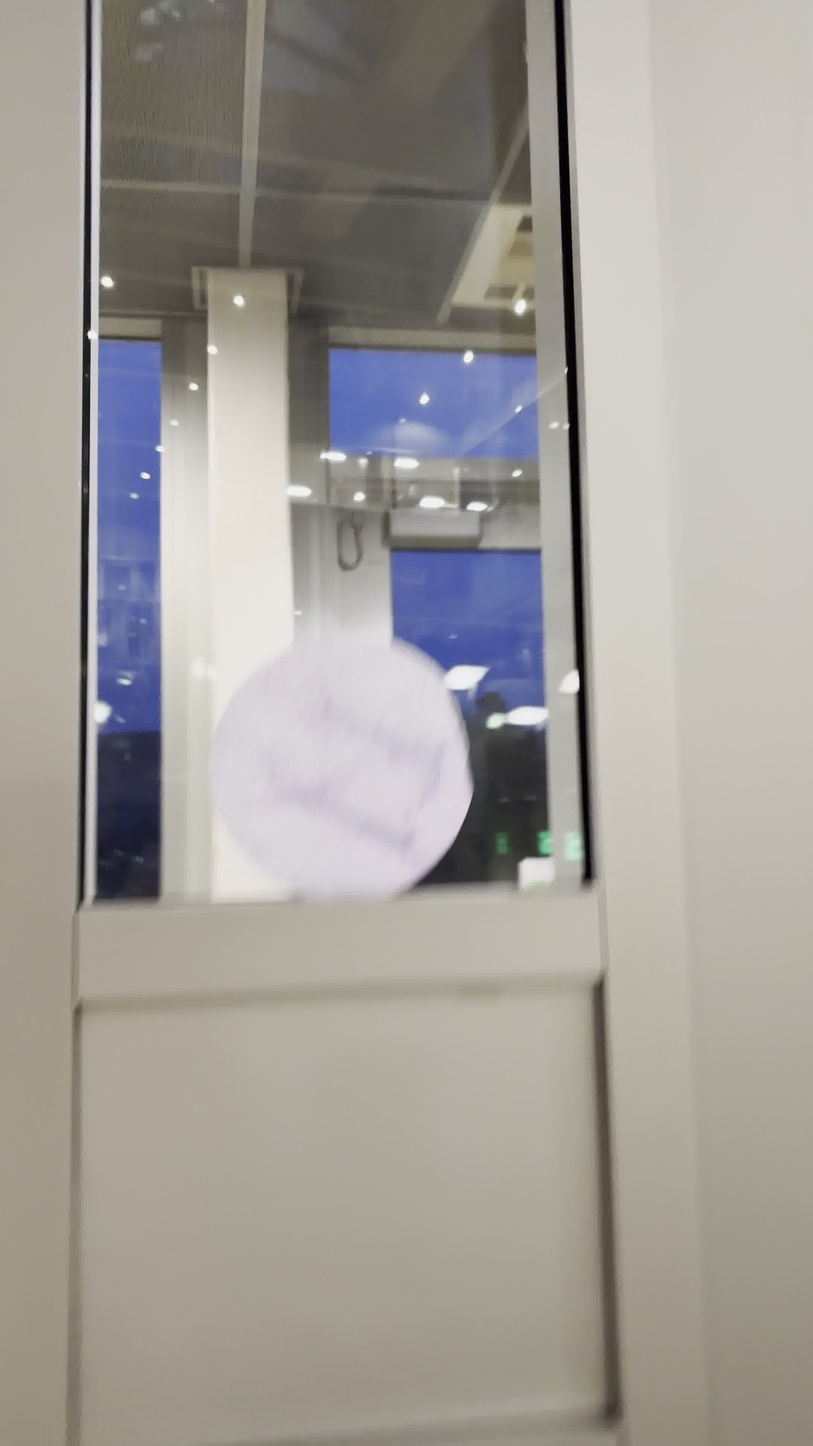Target: (205, 629, 479, 905)
